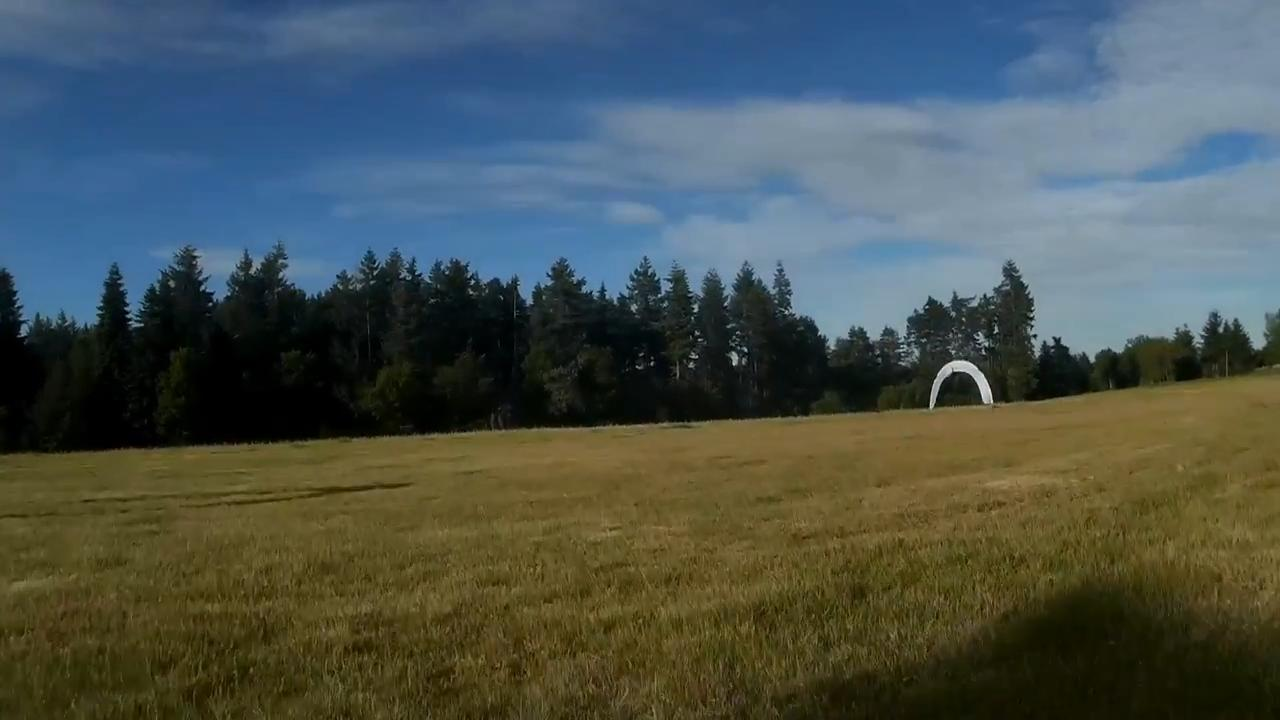gate: (929, 360, 990, 410)
